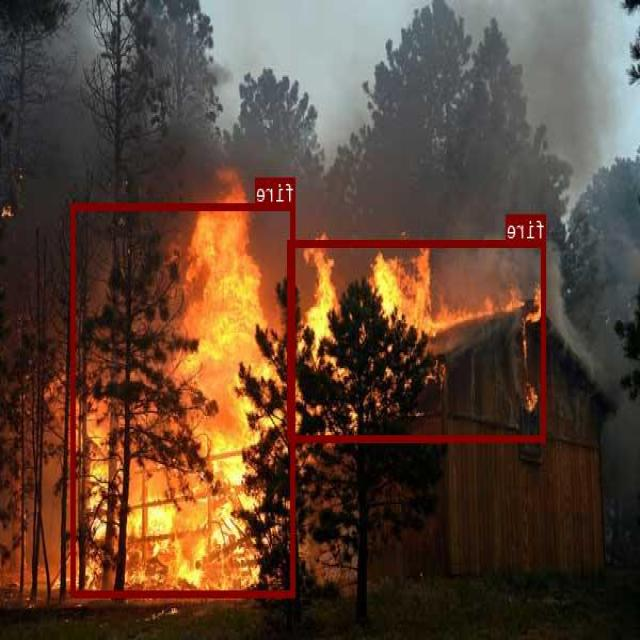fire: (72, 202, 296, 596), (289, 239, 547, 440)
